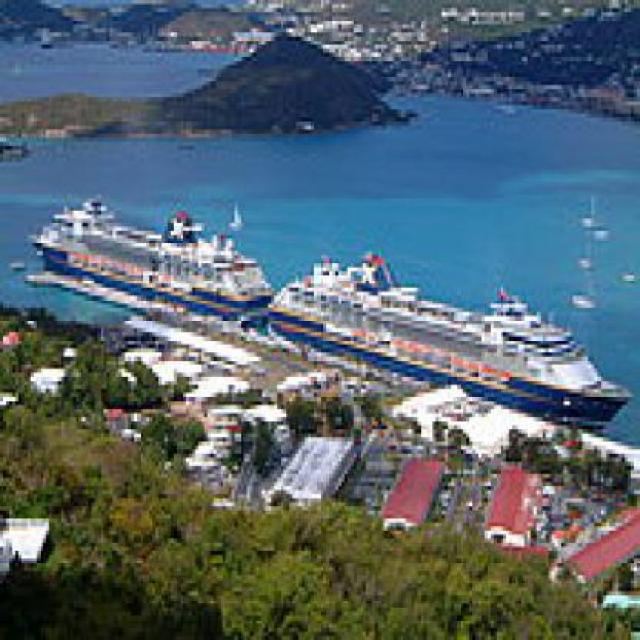cruise: (263, 232, 637, 447), (25, 183, 279, 334)
